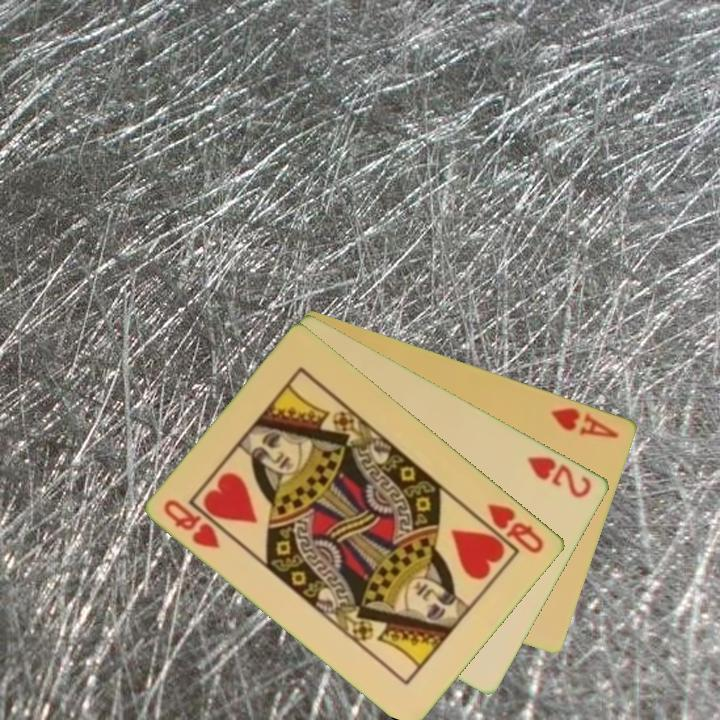2h: (524, 452, 595, 501)
Ah: (548, 403, 622, 441)
Qh: (160, 495, 224, 552), (484, 500, 547, 557)
